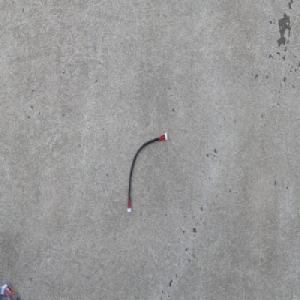Wire: (125, 130, 168, 213)
